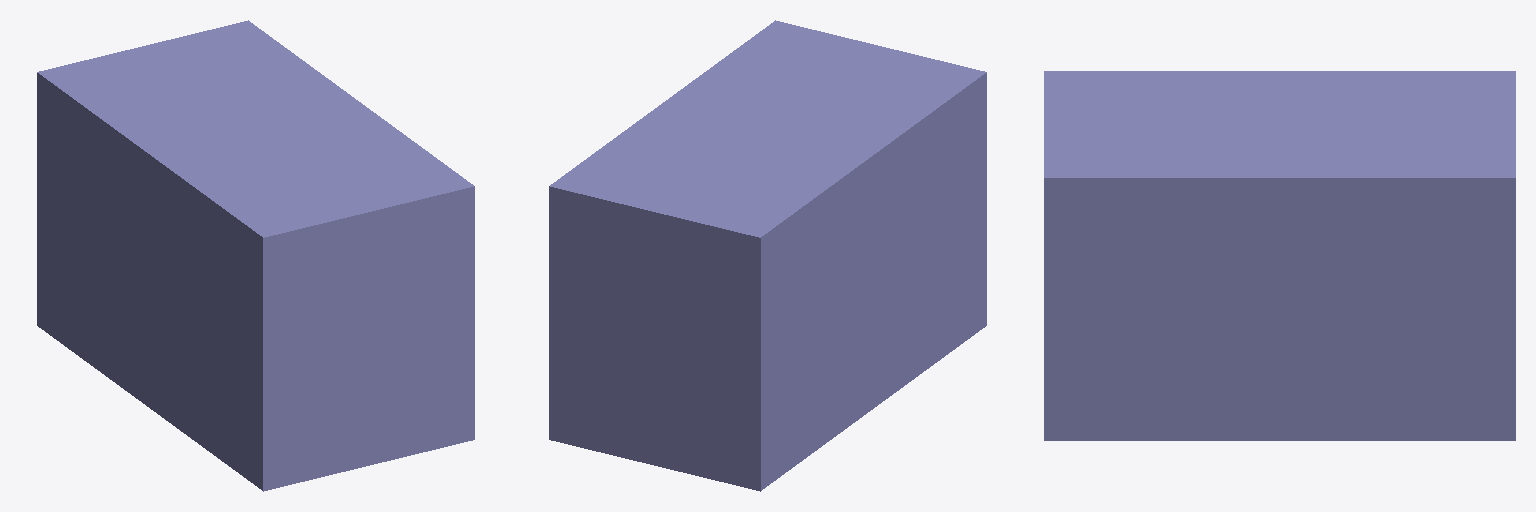
URDF robot description (box.urdf):
<?xml version="1.0" ?>
<robot name="box.urdf">
  <link name="baseLink">
    <contact>
      <lateral_friction value="1.0"/>
      <rolling_friction value="0.0001"/>
      <inertia_scaling value="3.0"/>
    </contact>
    <inertial>
      <origin rpy="0 0 0" xyz="0 0 0"/>
       <mass value="0.1"/>
       <inertia ixx="1" ixy="0" ixz="0" iyy="1" iyz="0" izz="1"/>
    </inertial>
    <visual>
      <origin rpy="0 0 0" xyz="0 0 0"/>
      <geometry>
        <!-- <box size="0.172 0.319 0.19699999999999998"/> -->
        <mesh filename="box/box.obj" scale="0.172 0.319 0.19699999999999998"/>
      </geometry>
      <material name="white">
        <color rgba="0.6 0.6 0.8 1"/>
      </material>
    </visual>
    <collision>
      <origin rpy="0 0 0" xyz="0 0 0"/>
      <geometry>
        <mesh filename="box/box.obj" scale="0.172 0.319 0.19699999999999998"/>
	 	    <!-- <box size="0.172 0.319 0.19699999999999998"/> -->
      </geometry>
    </collision>
  </link>
</robot>

--- Render facts (derived) ---
3 views of the same robot in one strip: view 1: azimuth 30°, elevation 25°; view 2: azimuth 150°, elevation 25°; view 3: azimuth 270°, elevation 25° (orthographic).
Model box.urdf with 1 links and 0 joints (none), rooted at baseLink, posed every joint at zero.
Visible links, largest first — view 1: baseLink; view 2: baseLink; view 3: baseLink.
Link boxes in pixels (x1=…): baseLink: x1=37, y1=20, x2=474, y2=491; baseLink: x1=549, y1=20, x2=986, y2=491; baseLink: x1=1044, y1=71, x2=1515, y2=440.
Bounding box of the posed robot: 0.172 × 0.319 × 0.197 m (x, y, z).
Meshes: 1 distinct files referenced, 1 mesh visuals loaded (1 OBJ).
